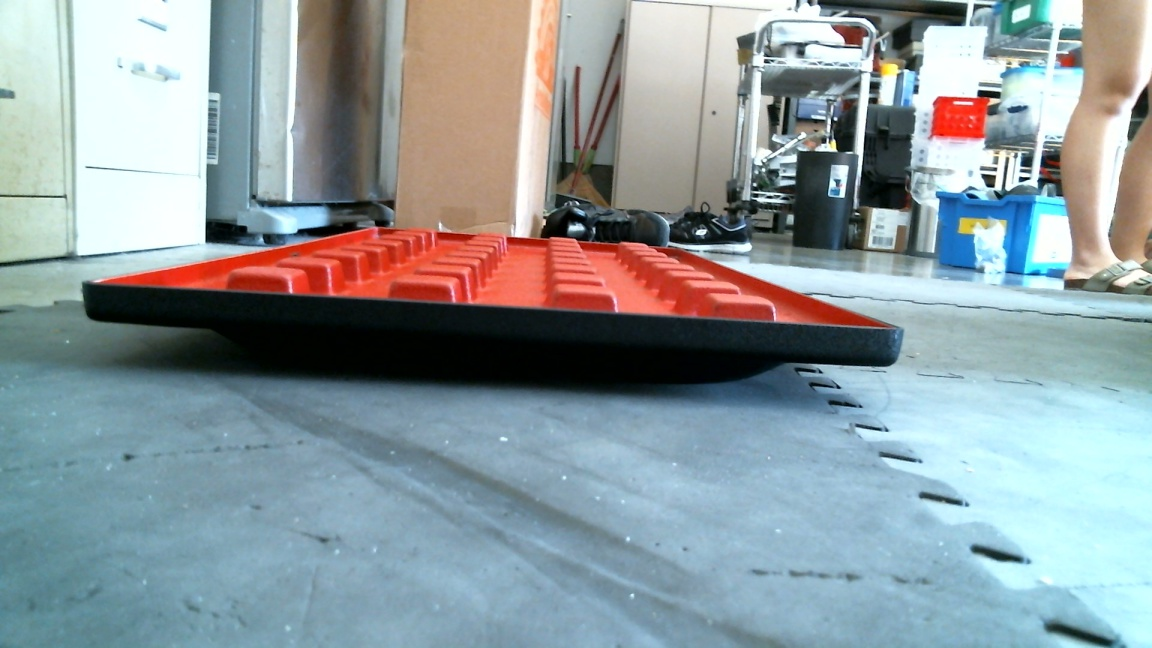red_foundation: (79, 223, 906, 399)
